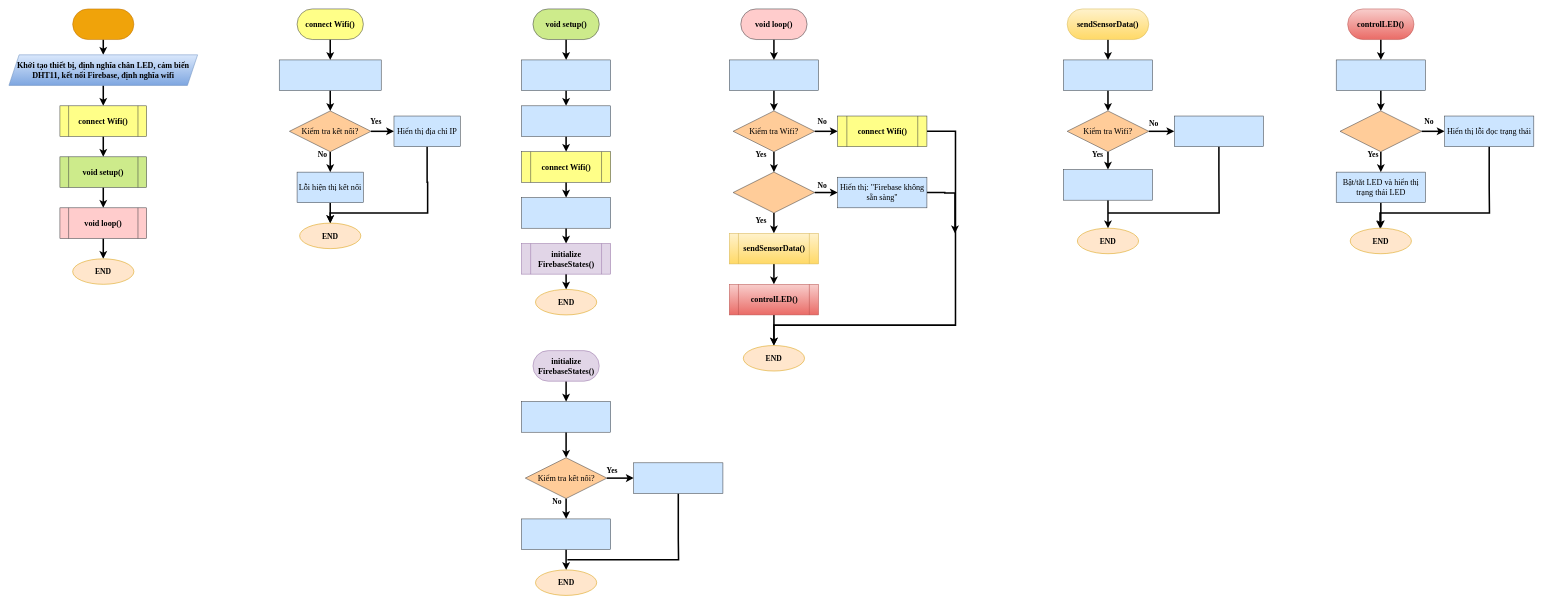
The diagram is 1543 pixels wide and 604 high, and some of its shapes have lost their labels. Each missing label, with the box of its shape:
BEGIN: (72, 8, 134, 40)
Cấu hình LED: (521, 59, 611, 91)
Gửi dữ liệu nhiệt độ và độ ẩm lên Firebase: (1063, 169, 1153, 200)
Gửi lỗi "DHT11 Error" lên Firebase: (1174, 116, 1264, 147)
Hiển thị "Khởi tạo hoàn tất": (521, 518, 611, 550)
Hiển thị lỗi: (633, 462, 723, 493)
Hiển thị trạng thái: "Đang kết nối Wifi": (279, 59, 381, 91)
Khởi động DHT11: (521, 105, 611, 136)
Kiểm tra Firebase?: (733, 172, 815, 213)
Kiểm tra trạng thái?: (1340, 110, 1422, 152)
Kết nối Firebase: (521, 197, 611, 228)
Nếu qua 1s: (729, 59, 819, 91)
Đặt giá trị ban đầu (nhiệt độ, độ ẩm, LED) = 0: (521, 401, 611, 432)
Đọc nhiệt độ, độ ẩm từ DHT11: (1063, 59, 1153, 91)
Đọc trạng thái LED từ Firebase: (1336, 59, 1425, 91)
